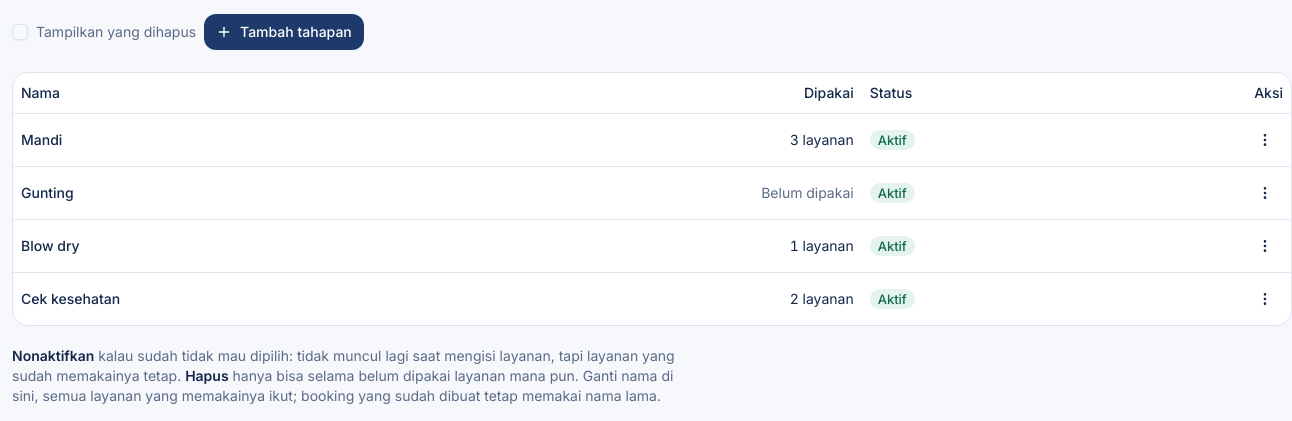
Test: ServiceStepsScreen › lets services:update add, rename, move and retire, but not delete
This screenshot has width=1292, height=421.
Expected: the text "Mandi" is shown, [13,113,450,166]
Expected: the button "Tambah tahapan" is shown, [204,14,364,50]
Click the button named "Aksi untuk Gunting": (1265, 192) [1247,174,1283,210]
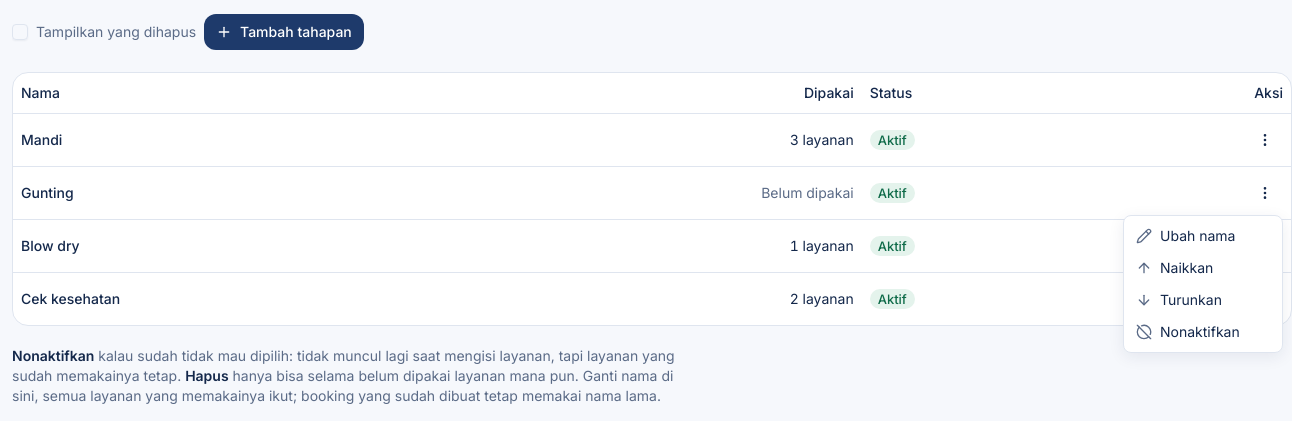
Now the menu item "Ubah nama" is shown, box [1136,227,1236,244]
Now the menu item "Naikkan" is shown, box [1136,259,1213,276]
Now the menu item "Turunkan" is shown, box [1136,291,1222,308]
